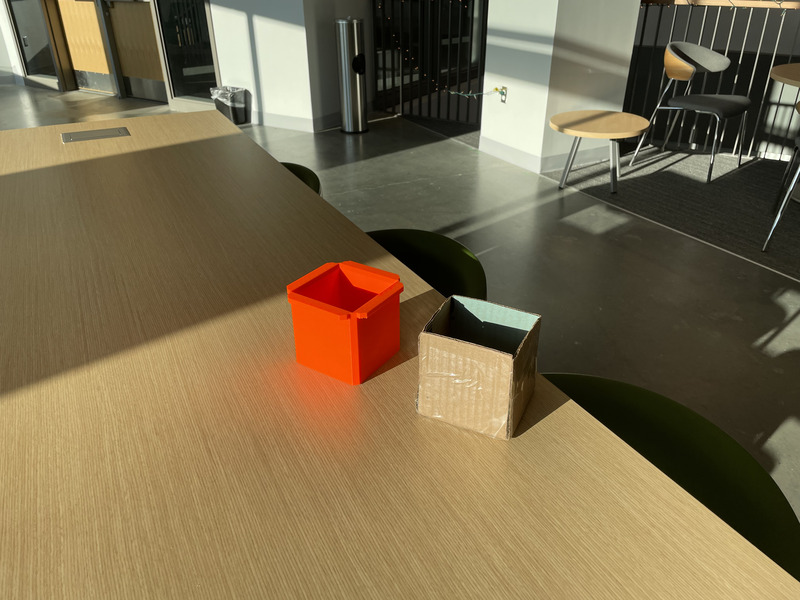payload1: (276, 256, 406, 400)
payload3: (415, 289, 549, 446)
